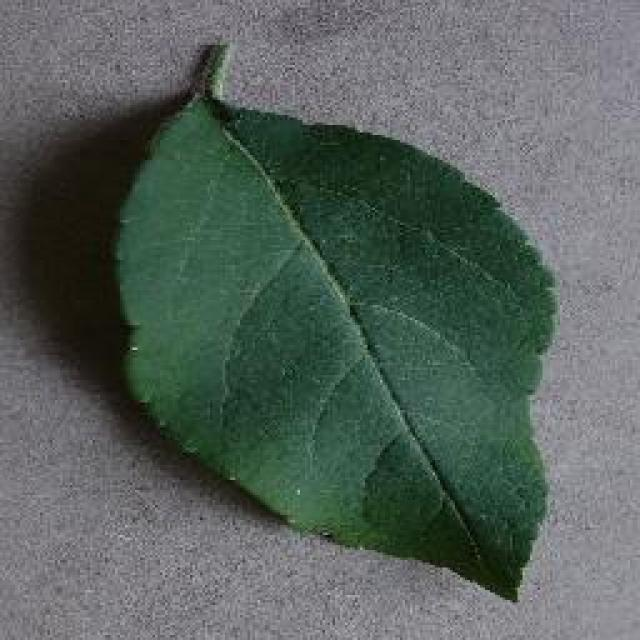apple scab disease: (108, 35, 560, 600)
